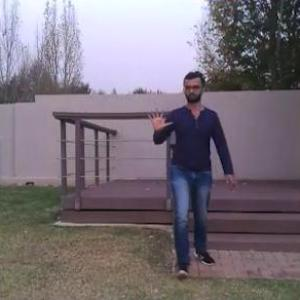follow_hand: (144, 102, 170, 134)
